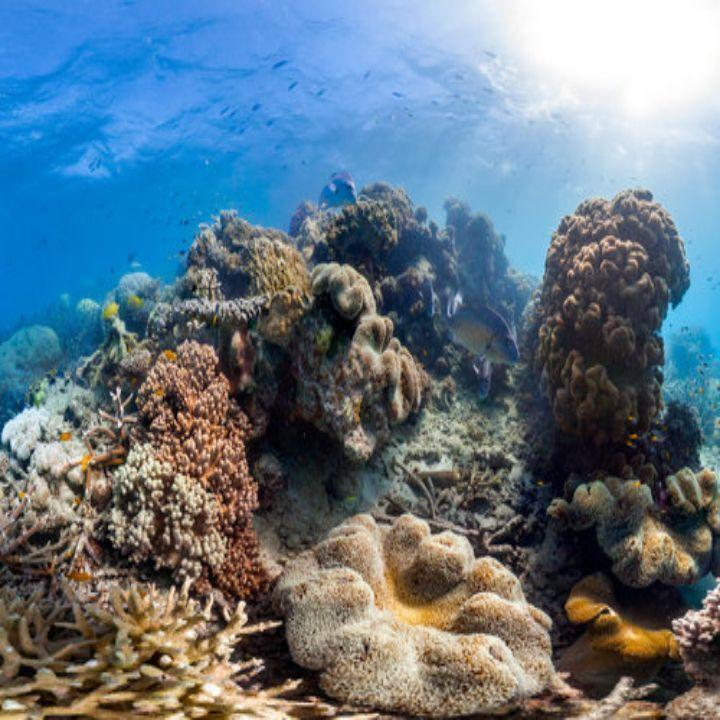Bleached disease: (23, 411, 498, 719)
Healthy Coral: (498, 204, 719, 506)
